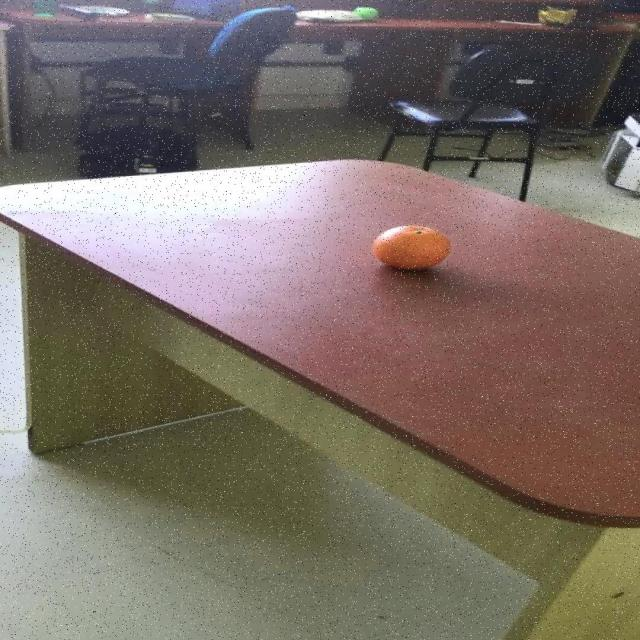Orange: (371, 224, 450, 270), (352, 6, 377, 20)
